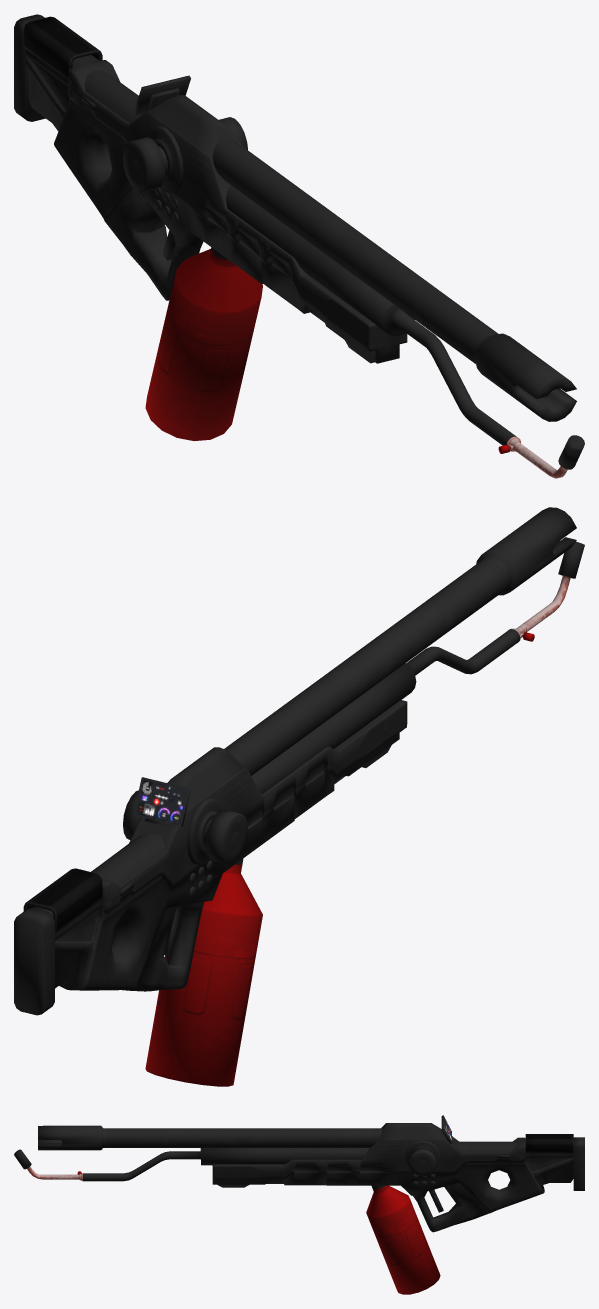
File: flame_thrower.glb
3 views of the same model, one above another, from view 1: azimuth 30°, elevation 25°; view 2: azimuth 150°, elevation 25°; view 3: azimuth 270°, elevation 25° (orthographic). The views are drawn at different scales.
Parts seen in each view (by area): view 1: basegun_low_Plane.003, fueltank_low_Plane.014, lighter_low_Plane.001, facerest_low_Cube.001, RIGHTEAR_low_Plane.029, lighterfrontpiece_low_Plane.027, SCREEN_low_Plane.013; view 2: basegun_low_Plane.003, fueltank_low_Plane.014, lighter_low_Plane.001, facerest_low_Cube.001, RIGHTEAR_low_Plane.029, Led_low_Plane.002, lighterfrontpiece_low_Plane.027; view 3: basegun_low_Plane.003, fueltank_low_Plane.014, lighter_low_Plane.001, facerest_low_Cube.001, LEFTEAR_low_Plane.010, lighterfrontpiece_low_Plane.027.
Part boxes in pixels (<box>): basegun_low_Plane.003: <box>14,14,576,421</box>; fueltank_low_Plane.014: <box>145,248,262,441</box>; lighter_low_Plane.001: <box>226,185,516,445</box>; facerest_low_Cube.001: <box>23,16,102,79</box>; RIGHTEAR_low_Plane.029: <box>123,137,167,192</box>; lighterfrontpiece_low_Plane.027: <box>507,435,584,478</box>; SCREEN_low_Plane.013: <box>133,75,190,115</box>; basegun_low_Plane.003: <box>14,507,576,1015</box>; fueltank_low_Plane.014: <box>145,864,262,1086</box>; lighter_low_Plane.001: <box>251,629,520,794</box>; facerest_low_Cube.001: <box>23,868,102,932</box>; RIGHTEAR_low_Plane.029: <box>203,809,248,864</box>; Led_low_Plane.002: <box>133,777,188,826</box>; lighterfrontpiece_low_Plane.027: <box>509,541,584,642</box>; basegun_low_Plane.003: <box>38,1123,584,1232</box>; fueltank_low_Plane.014: <box>366,1185,440,1294</box>; lighter_low_Plane.001: <box>83,1148,368,1181</box>; facerest_low_Cube.001: <box>525,1134,573,1153</box>; LEFTEAR_low_Plane.010: <box>409,1148,436,1176</box>; lighterfrontpiece_low_Plane.027: <box>14,1149,82,1181</box>.
Size of the model in its own units: 0.6516 by 2.04 by 6.27.
Materials: 1 (1 with a texture image).
